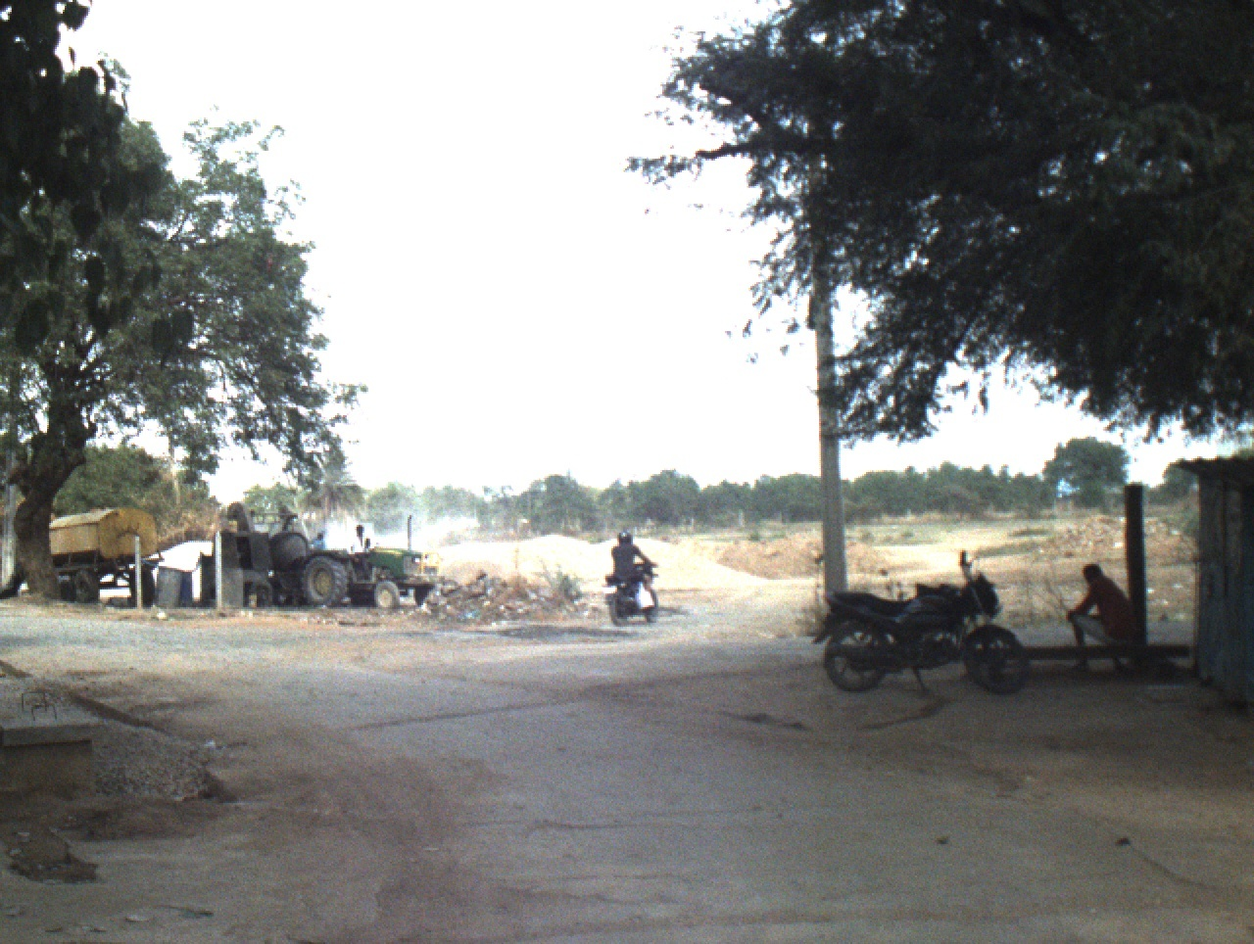car: (811, 550, 1034, 694), (1065, 567, 1134, 670), (603, 563, 659, 627)
person: (305, 526, 325, 555)
rider: (611, 530, 657, 615), (348, 525, 375, 581)
vehicle fallback: (199, 501, 439, 607), (45, 506, 165, 606)
